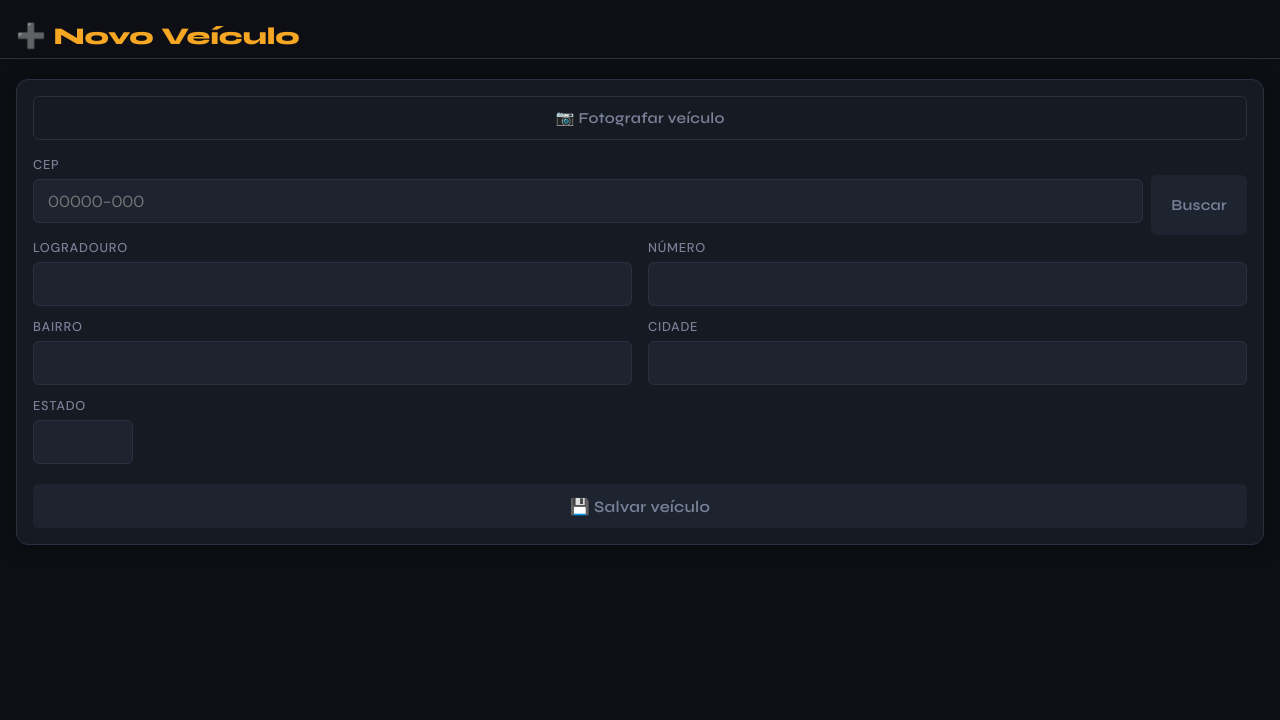
Test: ImovelForm › preenche endereço após busca de CEP válido
Type "01310100" into the field labelled "CEP". click: (588, 201)
box: [33,179,1143,223]
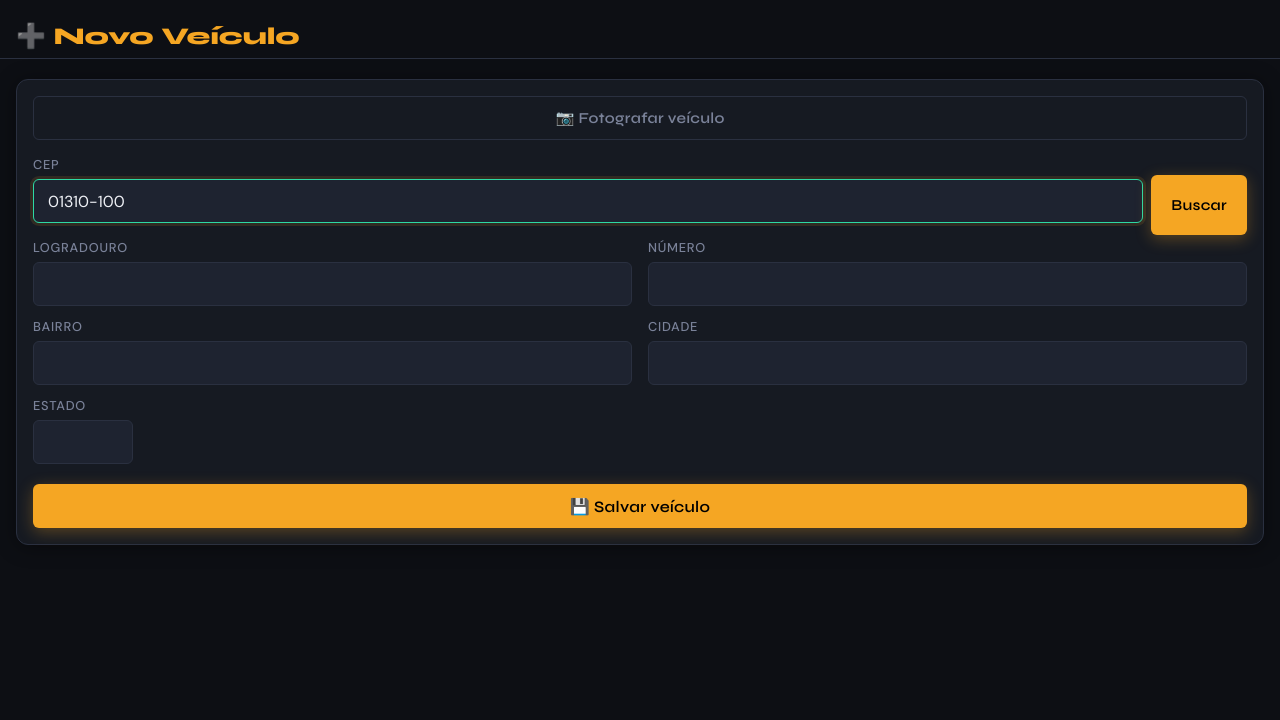
Click the button "Buscar". click: (1199, 205)
box: [1151,175,1247,235]
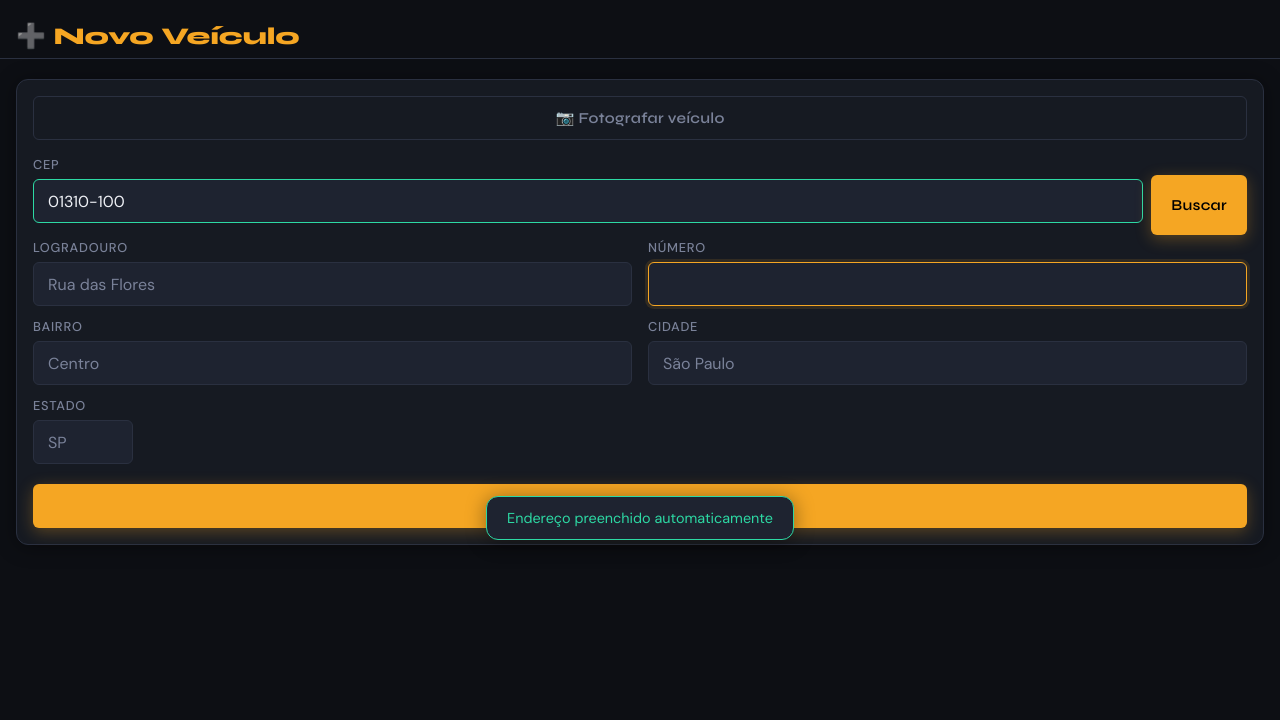
Now the field showing "Rua das Flores" is shown, box [33,262,632,306]
Now the field showing "São Paulo" is shown, box [648,341,1247,385]
Now the field showing "SP" is shown, box [33,420,133,464]
